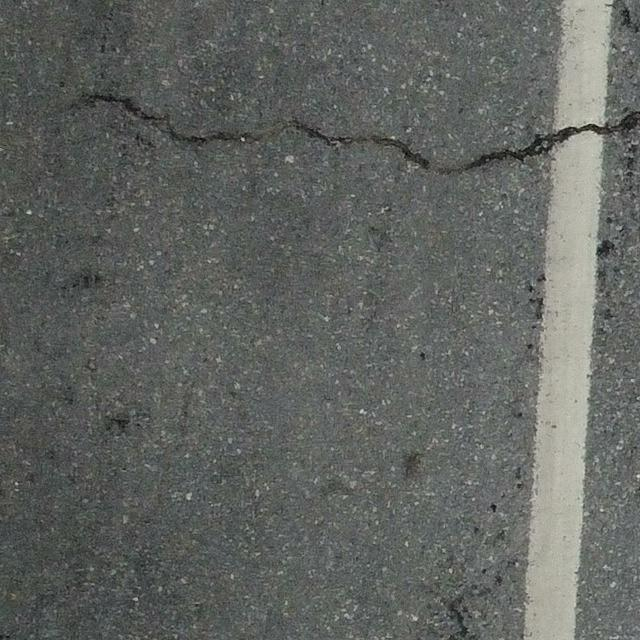TransverseCrack: (89, 92, 640, 180)
